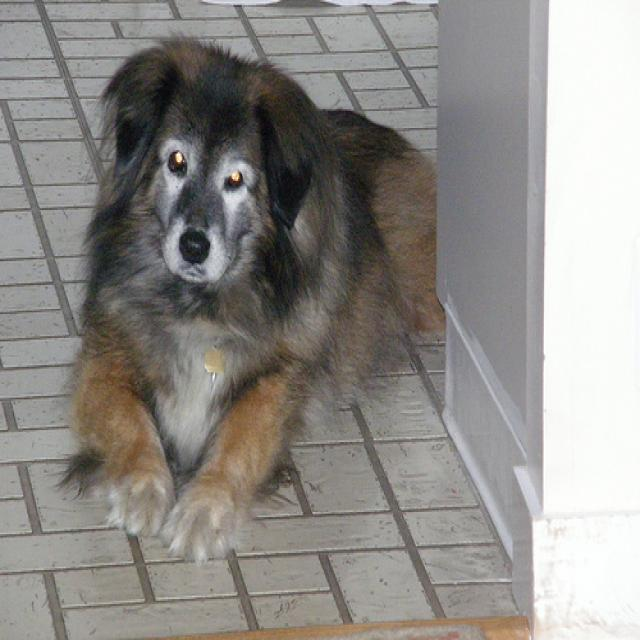dog-leonberger: (56, 27, 443, 570)
